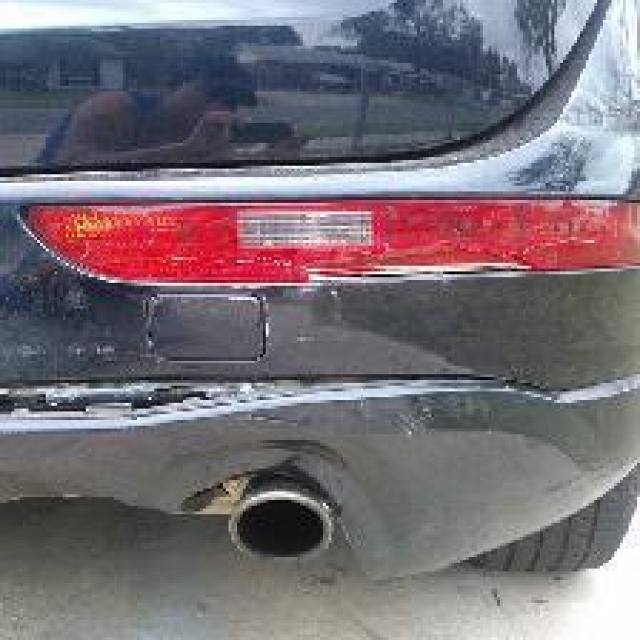damaged: (0, 369, 557, 437)
